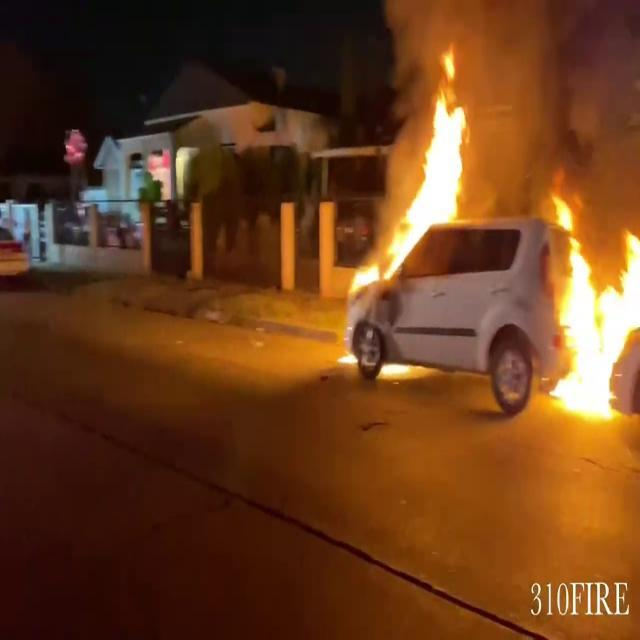Fire: (342, 59, 488, 347), (540, 180, 640, 424)
Smoke: (364, 0, 640, 198)
